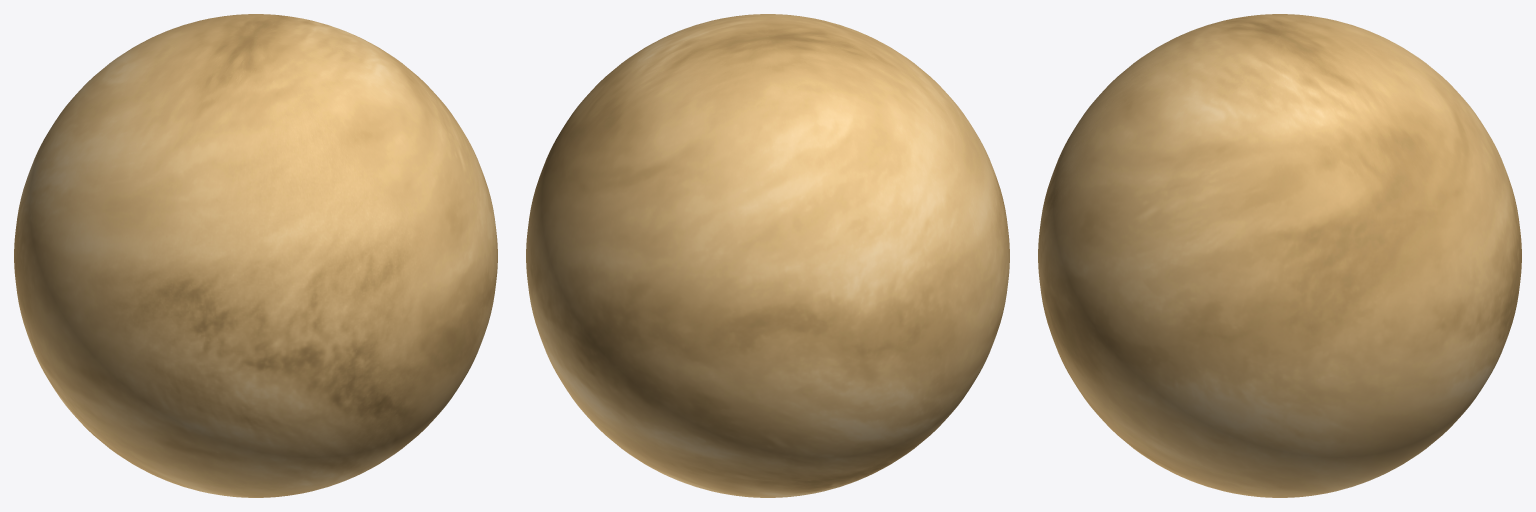
The model's file is scene_mercury.gltf.
The picture shows the model from 3 angles, left to right: view 1: azimuth 30°, elevation 25°; view 2: azimuth 150°, elevation 25°; view 3: azimuth 270°, elevation 25°; orthographic projection.
Visible parts, largest first — view 1: atmosphere; view 2: atmosphere; view 3: atmosphere.
Part boxes in pixels (x1,y1,x2,y2): atmosphere: (14, 14, 497, 497); atmosphere: (526, 14, 1009, 497); atmosphere: (1038, 14, 1521, 497).
Size of the model in its own units: 26.73 by 26.74 by 26.73.
